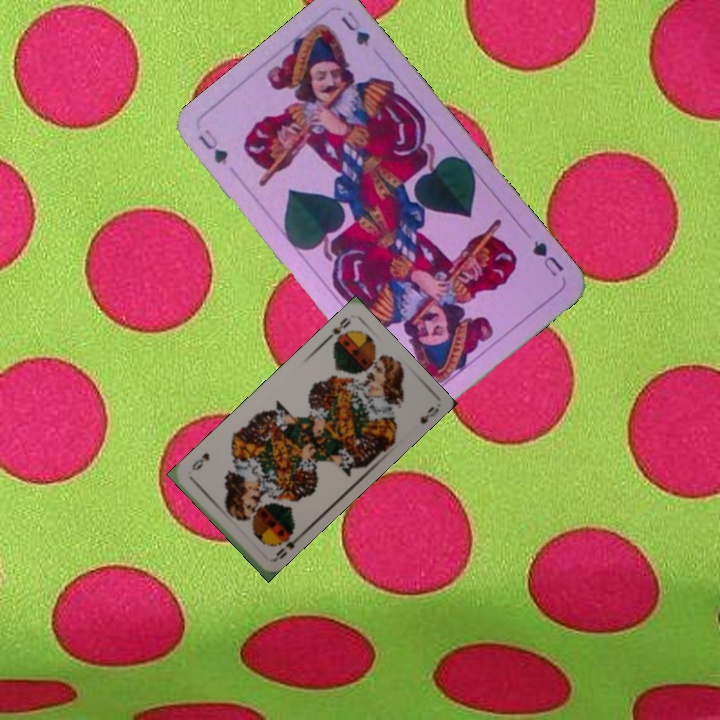GU: (528, 235, 567, 279), (193, 125, 231, 168)
SO: (267, 527, 302, 565), (321, 313, 353, 345)
